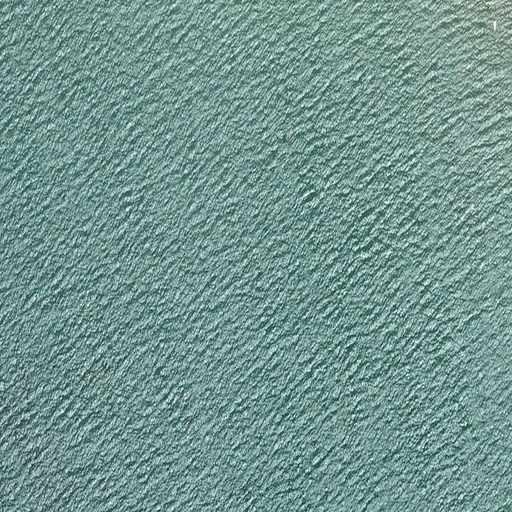ship: (491, 20, 498, 33)
